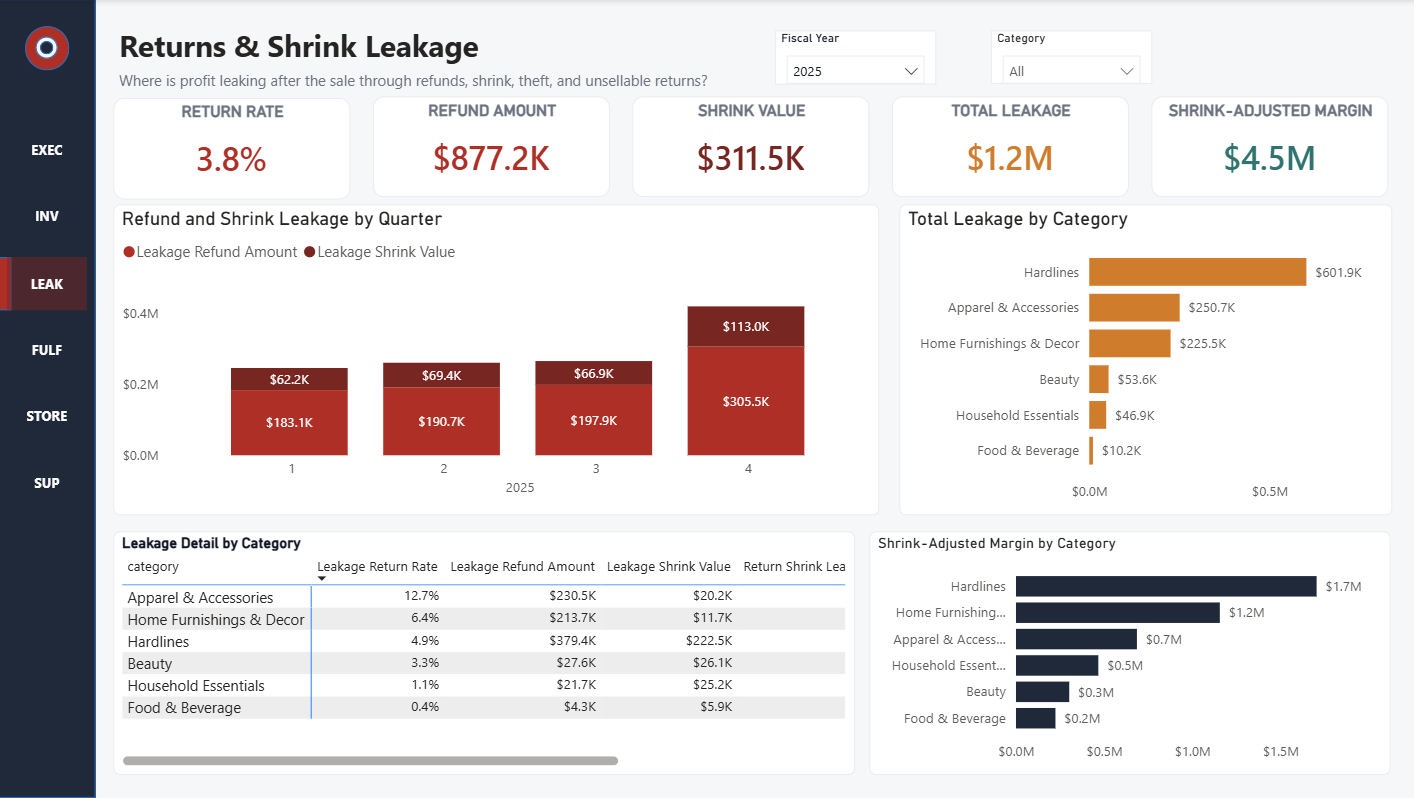

The page's visual inventory and layout, read from the dashboard file:
{"tool":"powerbi","page":{"name":"Returns & Shrink Leakage","canvas":[1280,720],"ordinal":3},"visuals":[{"type":"shape","box":[0,0,88,720],"z":0},{"type":"shape","box":[24,24,40,40],"z":1000},{"type":"shape","box":[34,34,20,20],"z":2000},{"type":"shape","box":[38,38,12,12],"z":3000},{"type":"shape","box":[0,232,12,48],"z":4000},{"type":"actionButton","box":[8,172,72,48],"z":5000},{"type":"actionButton","box":[8,232,72,48],"z":6000},{"type":"actionButton","box":[8,292,72,48],"z":7000},{"type":"actionButton","box":[8,352,72,48],"z":8000},{"type":"actionButton","box":[8,412,72,48],"z":9000},{"type":"textbox","box":[104.5,0,375.5,75.7],"z":10000},{"type":"textbox","box":[103.7,58.8,608.6,45],"z":11000},{"type":"slicer","title":"Fiscal Year","fields":{"Values":["Dim Fiscal Year.fiscal_year"]},"box":[700,28,145.4,48.5],"z":12000},{"type":"slicer","title":"Category","fields":{"Values":["ML Margin Risk Predictions.predicted_risk_band"]},"box":[895,28,145,48],"z":13000},{"type":"cardVisual","title":"RETURN RATE","fields":{"Data":["_Measures.Leakage Return Rate"]},"box":[104,88.9,213.3,91.1],"z":14000},{"type":"cardVisual","title":"REFUND AMOUNT","fields":{"Data":["_Measures.Leakage Refund Amount"]},"box":[338,88,213.5,90.9],"z":15000},{"type":"cardVisual","title":"SHRINK VALUE","fields":{"Data":["_Measures.Leakage Shrink Value"]},"box":[572,88,213.5,90.9],"z":16000},{"type":"cardVisual","title":"TOTAL LEAKAGE","fields":{"Data":["_Measures.Return Shrink Leakage Value"]},"box":[806,88,213.5,90.9],"z":17000},{"type":"cardVisual","title":"SHRINK-ADJUSTED MARGIN","fields":{"Data":["_Measures.Leakage Shrink Adjusted Margin"]},"box":[1040,88,213.5,90.9],"z":18000},{"type":"pivotTable","title":"Leakage Detail by Category","fields":{"Rows":["Returns Shrink Leakage.category"],"Values":["_Measures.Leakage Return Rate","_Measures.Leakage Refund Amount","_Measures.Leakage Shrink Value","_Measures.Return Shrink Leakage Value","_Measures.Return Shrink Leakage Rate"]},"box":[104.5,480,667.8,219.6],"z":19000},{"type":"clusteredBarChart","title":"Shrink-Adjusted Margin by Category","fields":{"Category":["Returns Shrink Leakage.category"],"Y":["_Measures.Leakage Shrink Adjusted Margin"]},"box":[785.9,480,469.4,219.6],"z":20000},{"type":"columnChart","title":"Refund and Shrink Leakage by Quarter","fields":{"Category":["Returns Shrink Leakage.fiscal_year","Returns Shrink Leakage.fiscal_quarter"],"Y":["_Measures.Leakage Refund Amount","_Measures.Leakage Shrink Value"]},"box":[104,185,690,280],"z":21000},{"type":"clusteredBarChart","title":"Total Leakage by Category","fields":{"Category":["Returns Shrink Leakage.category"],"Y":["_Measures.Return Shrink Leakage Value"]},"box":[812,185,444,280],"z":22000},{"type":"actionButton","box":[8,112,72,48],"z":23000}]}

Visuals, with their boxes on the page's 1280x720 design canvas (x1, y1, x2, y2). These are canvas units, not pixel positions in the 1414x798 screenshot, which may show the page scaled, cropped or inside an application window:
shape: 0,0,88,720
shape: 24,24,64,64
shape: 34,34,54,54
shape: 38,38,50,50
shape: 0,232,12,280
actionButton: 8,172,80,220
actionButton: 8,232,80,280
actionButton: 8,292,80,340
actionButton: 8,352,80,400
actionButton: 8,412,80,460
textbox: 104,0,480,76
textbox: 104,59,712,104
"Fiscal Year" slicer: 700,28,845,76
"Category" slicer: 895,28,1040,76
"RETURN RATE" cardVisual: 104,89,317,180
"REFUND AMOUNT" cardVisual: 338,88,552,179
"SHRINK VALUE" cardVisual: 572,88,786,179
"TOTAL LEAKAGE" cardVisual: 806,88,1020,179
"SHRINK-ADJUSTED MARGIN" cardVisual: 1040,88,1254,179
"Leakage Detail by Category" pivotTable: 104,480,772,700
"Shrink-Adjusted Margin by Category" clusteredBarChart: 786,480,1255,700
"Refund and Shrink Leakage by Quarter" columnChart: 104,185,794,465
"Total Leakage by Category" clusteredBarChart: 812,185,1256,465
actionButton: 8,112,80,160
